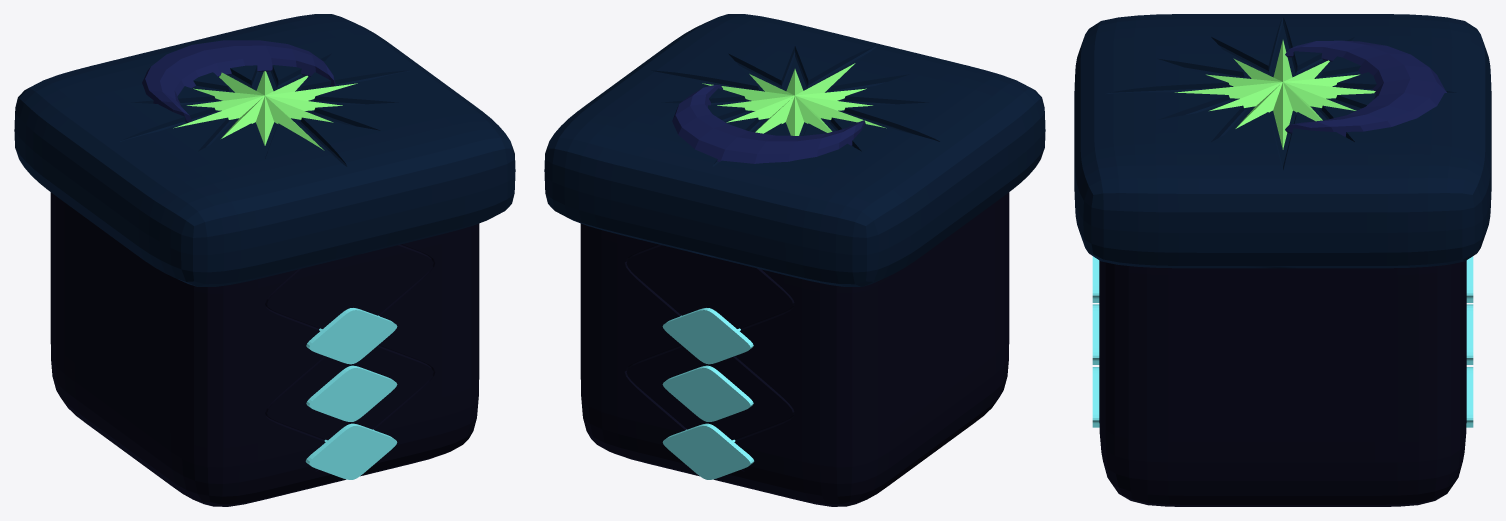
The model's file is st3_ground2.fbx.
The picture shows the model from 3 angles, left to right: view 1: azimuth 30°, elevation 25°; view 2: azimuth 150°, elevation 25°; view 3: azimuth 270°, elevation 25°; orthographic projection. The views are drawn at different scales.
Parts seen in each view (by area): view 1: block4_grass_1; view 2: block4_grass_1; view 3: block4_grass_1.
Part boxes in pixels (box(x1,y1,x2,y2)): block4_grass_1: box(14, 14, 515, 506); block4_grass_1: box(544, 14, 1045, 506); block4_grass_1: box(1074, 14, 1491, 506).
Bounding box in the file's own units: 237 × 221 × 227.
